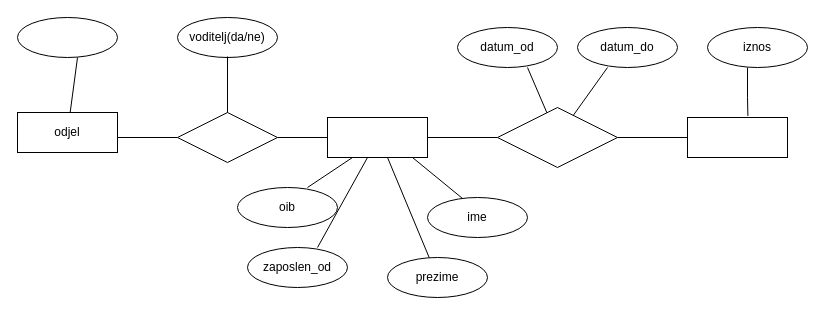
Some shapes in this 825 by 315 pixel diagram are drawn without their labels. Each missing label, with the centre of its shape:
ima: (x=557, y=137)
naziv: (x=67, y=37)
placa: (x=737, y=137)
pripada: (x=227, y=137)
zaposlenik: (x=377, y=137)
